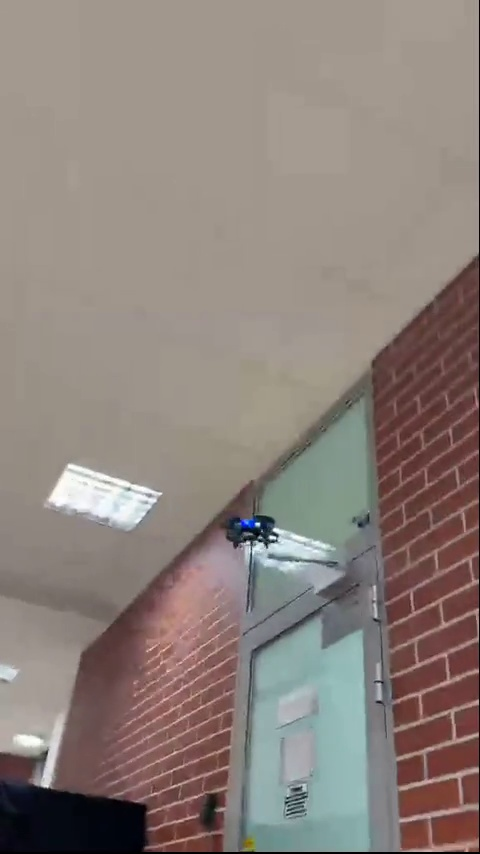drone: (227, 515, 274, 545)
